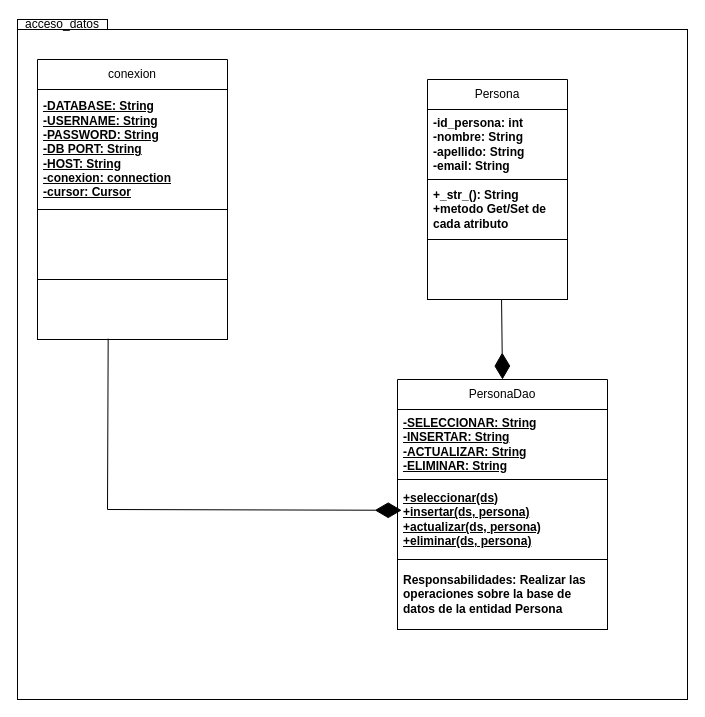
This 705x717 diagram has some shape labels left out. The shapes that lost their labels are listed below. From the top down, each one's centre as x and y in pixels, then its label:
At [132,244]: "+obtenerConexion(ds): Connection +obtenerCursor(ds): Cursor +cerrar(ds)".
At [497,269]: "Responsabilidades: Crear objetos de la entidad de Persona".
At [132,309]: "Responsabilidades: Administrar la conexión a la base de datos".
